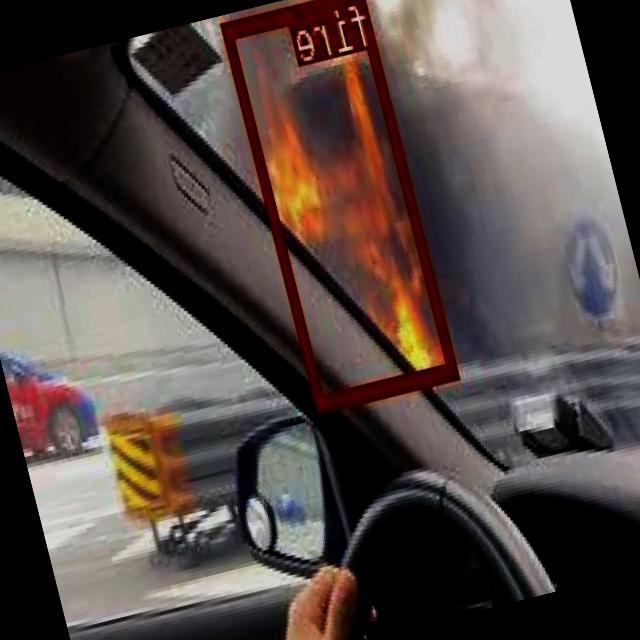fire: (222, 0, 459, 409)
